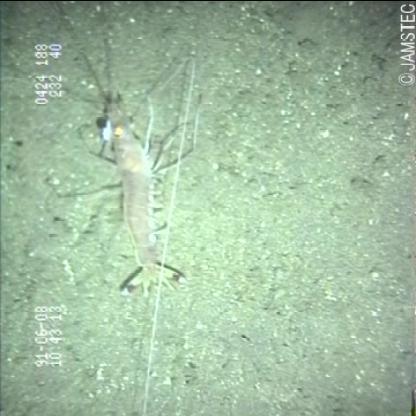Bio: (27, 23, 201, 312)
